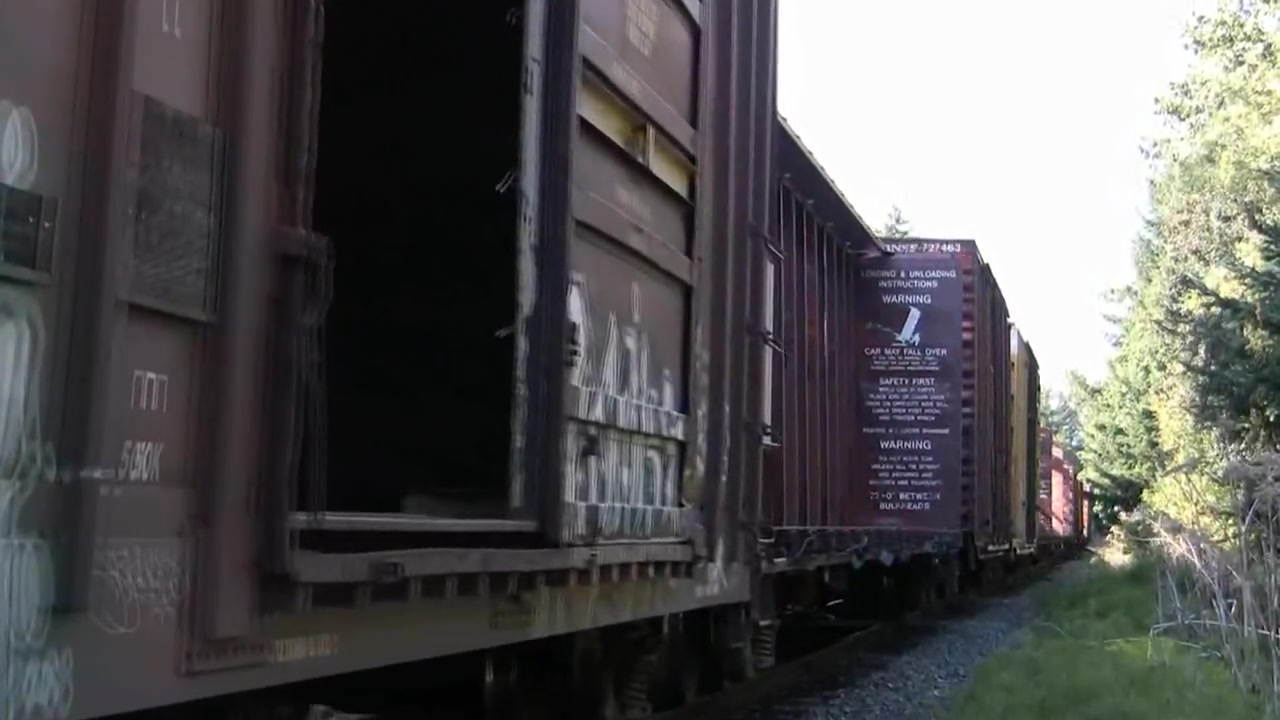train: (1, 1, 1098, 720)
